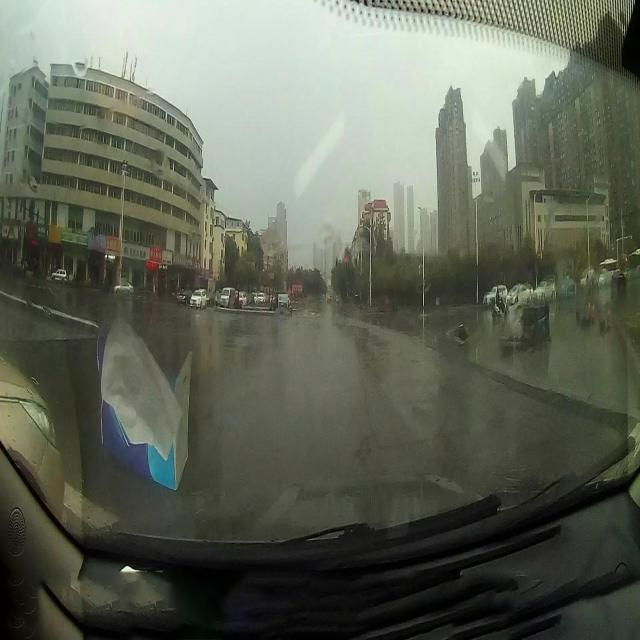car: (190, 288, 209, 312), (220, 286, 237, 306), (52, 266, 68, 282)
